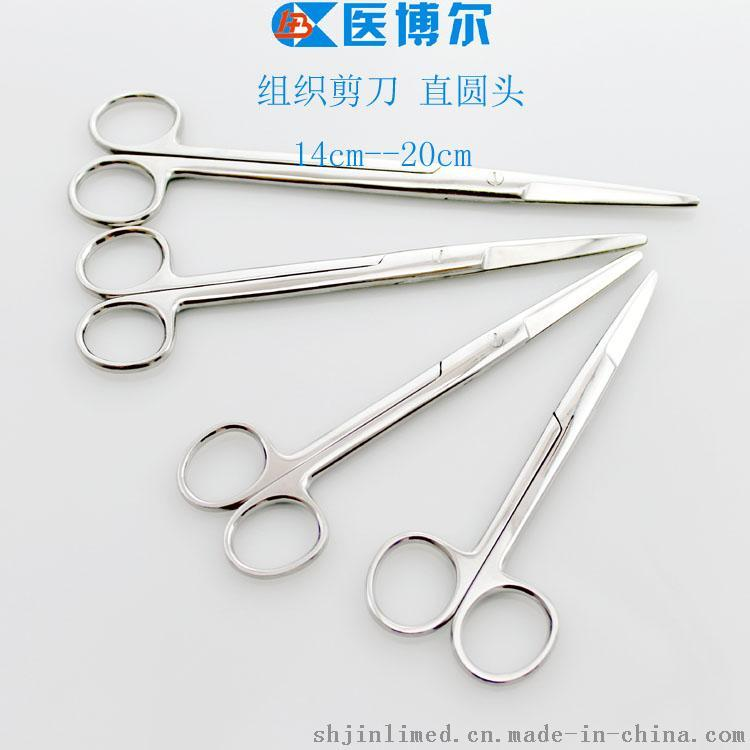scissor: (65, 64, 697, 674)
